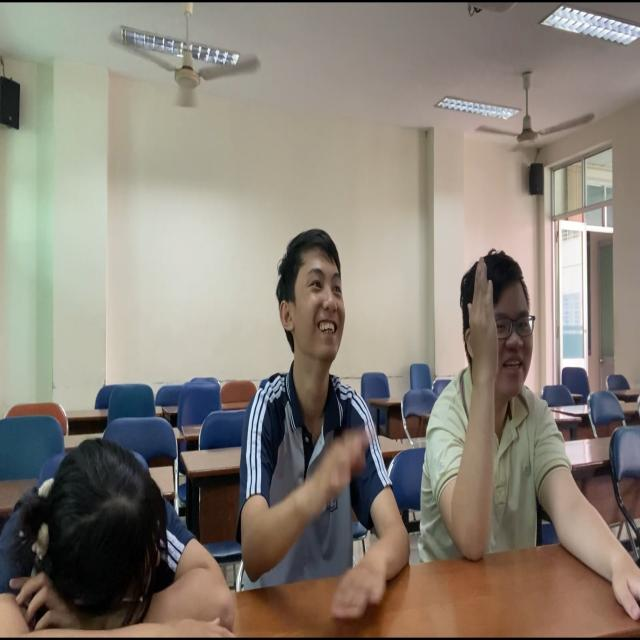raise_hand: (423, 251, 579, 569)
sleep: (1, 435, 234, 640)
